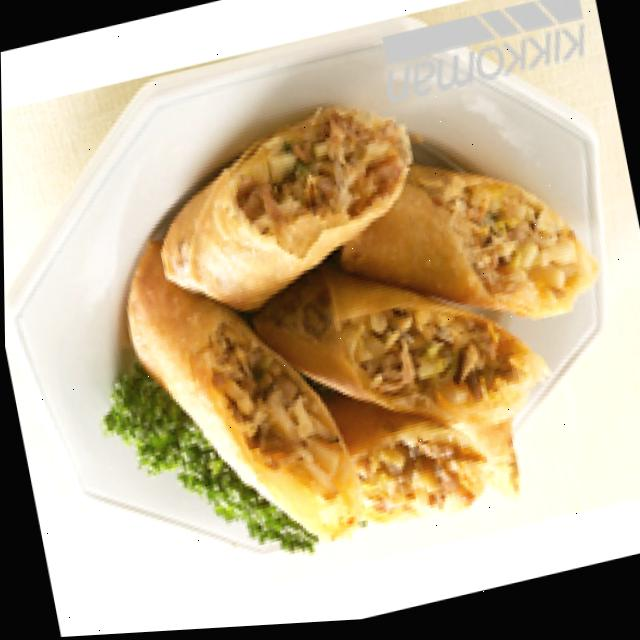鸡蛋料理: (86, 63, 640, 595)
